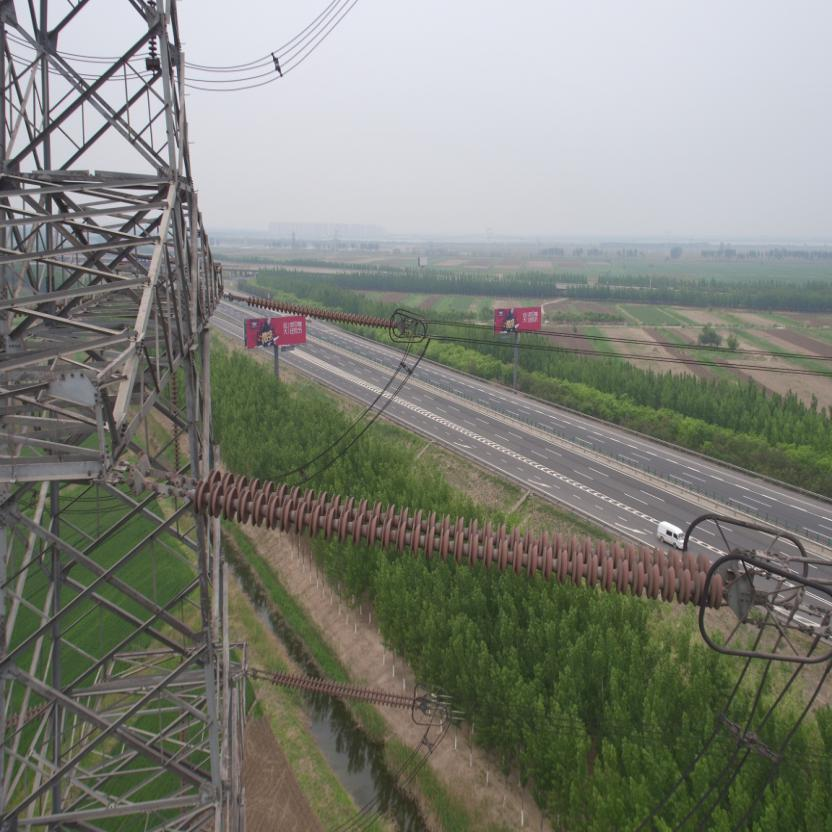insulator: (164, 462, 736, 610), (262, 666, 424, 712), (235, 293, 398, 330)
